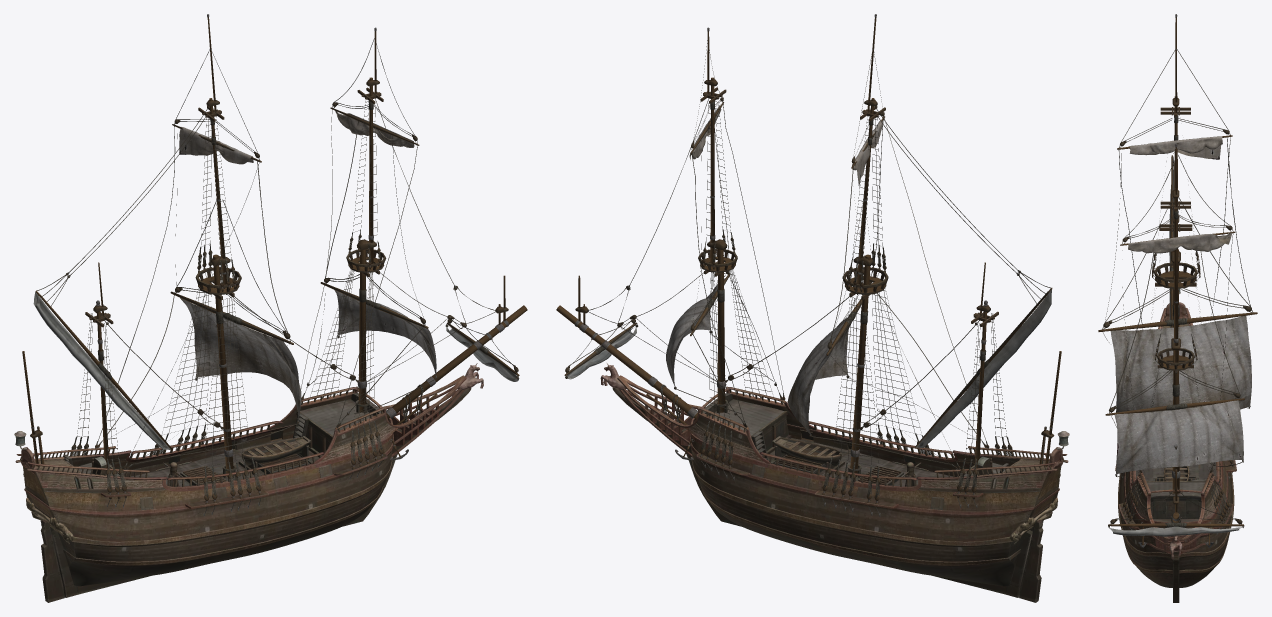
Rendered from dutch_ship_medium.glb.
3 views of the same model, side by side, from view 1: azimuth 30°, elevation 25°; view 2: azimuth 150°, elevation 25°; view 3: azimuth 270°, elevation 25° (orthographic). The views are drawn at different scales.
Visible parts, largest first — view 1: dutch_ship_medium_hull, dutch_ship_medium_rigging, dutch_ship_medium_sails; view 2: dutch_ship_medium_hull, dutch_ship_medium_rigging, dutch_ship_medium_sails; view 3: dutch_ship_medium_sails, dutch_ship_medium_rigging, dutch_ship_medium_hull.
Boxes of the visible parts, <box> form: dutch_ship_medium_hull: <box>14,363,483,602</box>; dutch_ship_medium_rigging: <box>22,14,527,516</box>; dutch_ship_medium_sails: <box>179,111,436,419</box>; dutch_ship_medium_hull: <box>600,363,1069,602</box>; dutch_ship_medium_rigging: <box>556,14,1061,516</box>; dutch_ship_medium_sails: <box>666,104,882,433</box>; dutch_ship_medium_sails: <box>1110,136,1251,474</box>; dutch_ship_medium_rigging: <box>1098,14,1257,547</box>; dutch_ship_medium_hull: <box>1115,289,1236,602</box>.
Size of the model in its own units: 24.07 by 24.66 by 6.81.
Materials: 3 (3 with a texture image).
